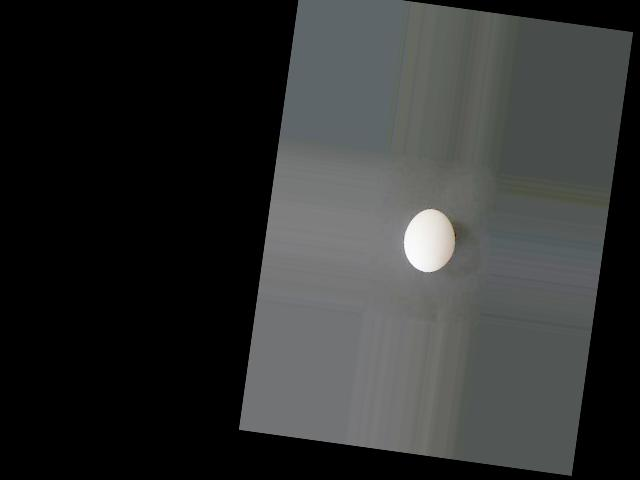egg: (400, 204, 459, 273)
